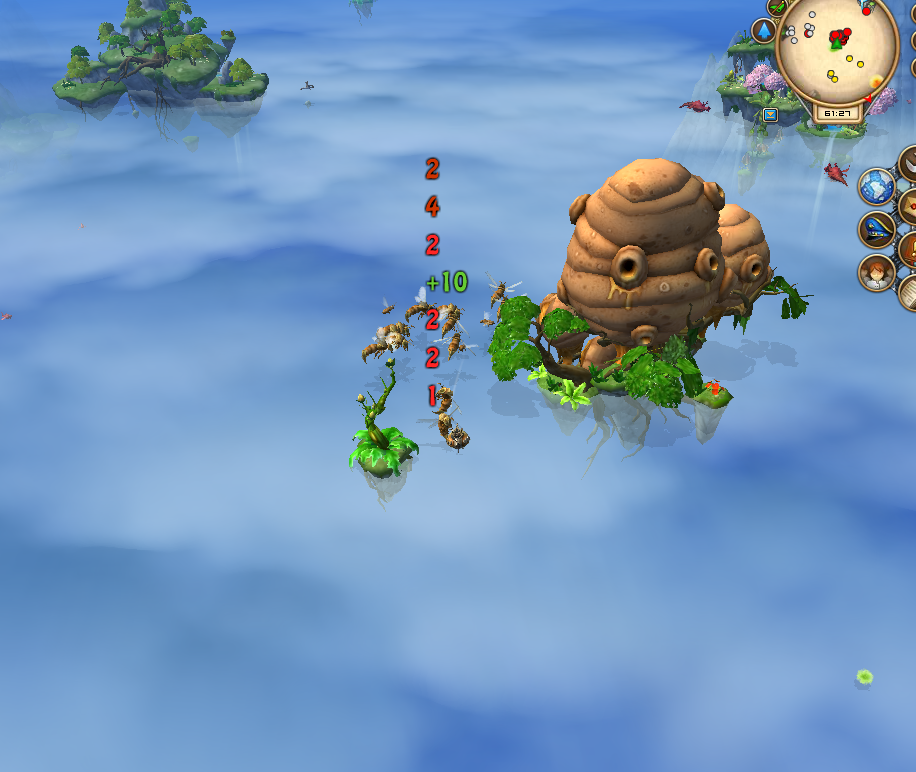dandelion-empty: (339, 359, 427, 501)
fluff: (851, 666, 879, 693)
